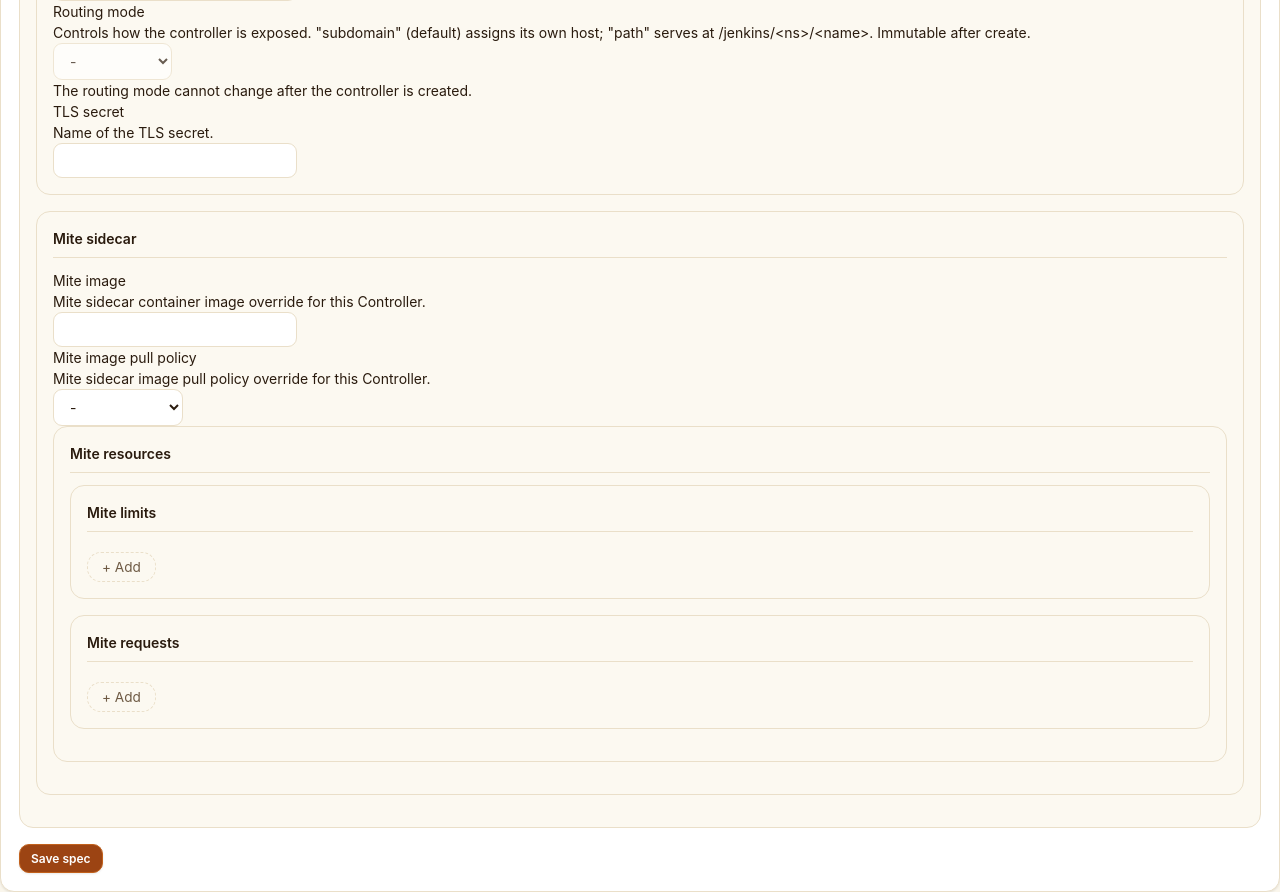
Test: SpecEditorCard save › aborts the save and surfaces an error when a YAML tier does not parse
(page scrolled)
Click the button "Save spec".
click(61, 858)  # box [19, 844, 103, 873]
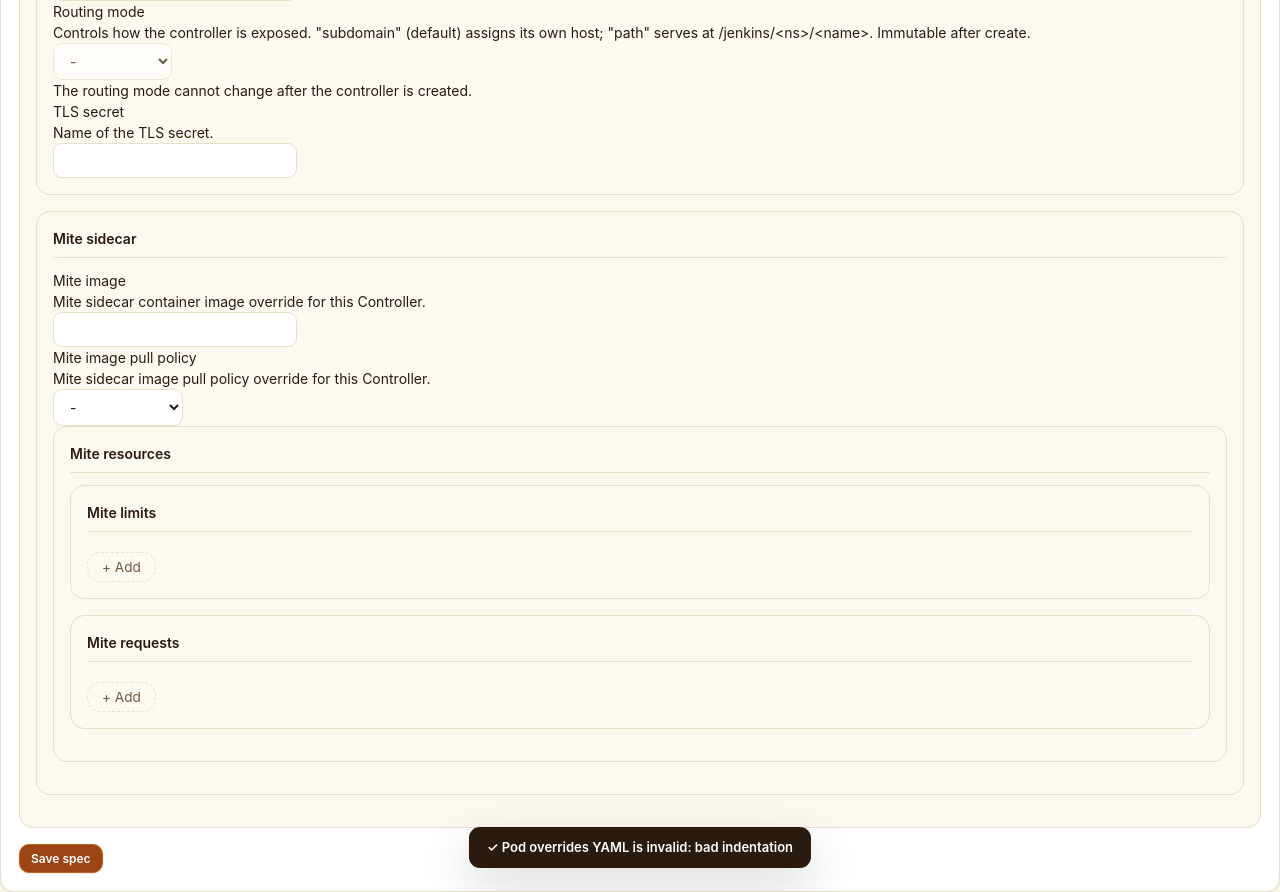
Now the text "✓ Pod overrides YAML is invalid: bad indentation" is shown, box [469, 826, 811, 868]
